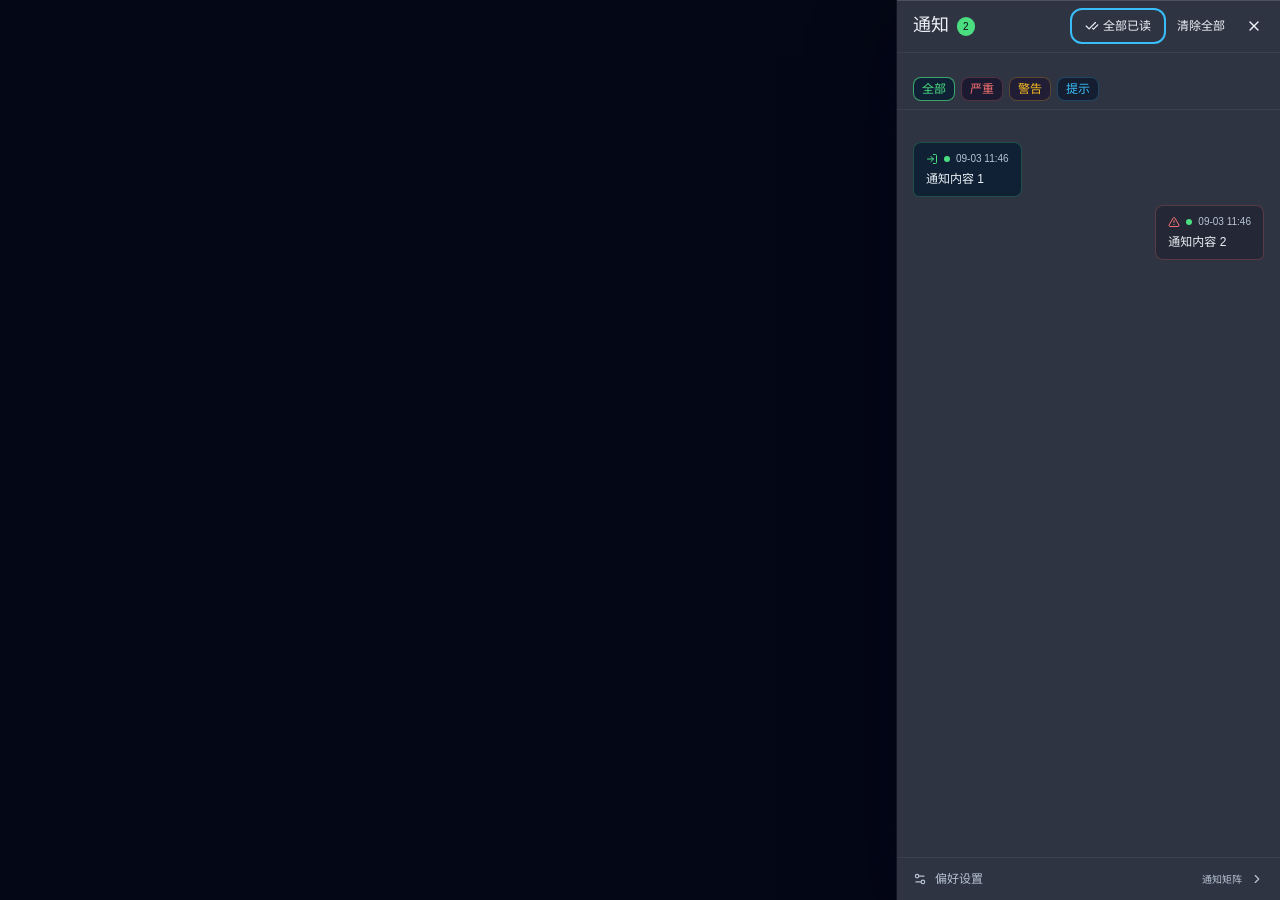
Scenario: NotificationDrawer 清除全部确认 › 确认后清空 store 并关闭弹窗
Step 1. Click the button "清除全部" → (1201,26), box [1166,12,1236,40]
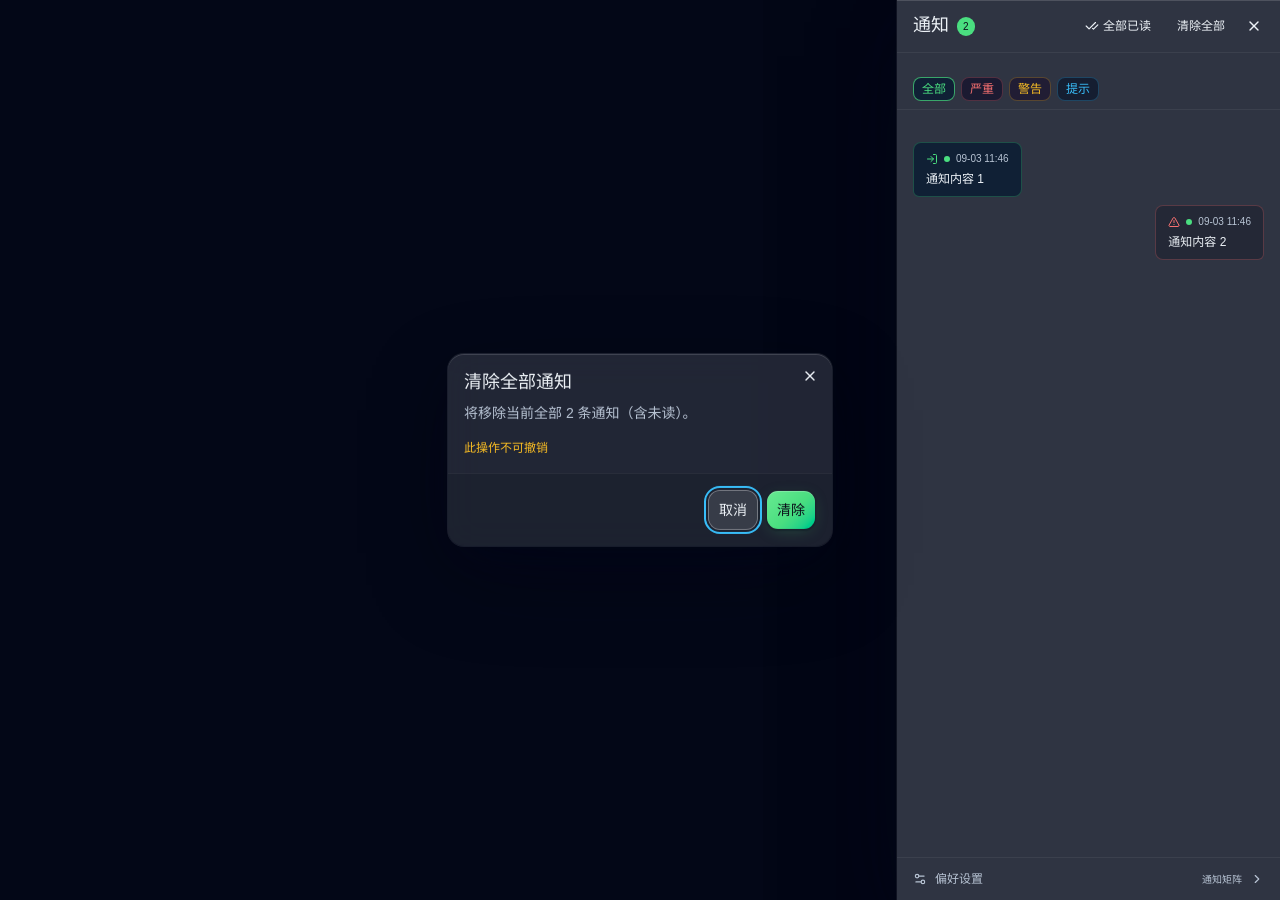
Step 2. Click the button "清除" → (791,510), box [766,490,816,530]
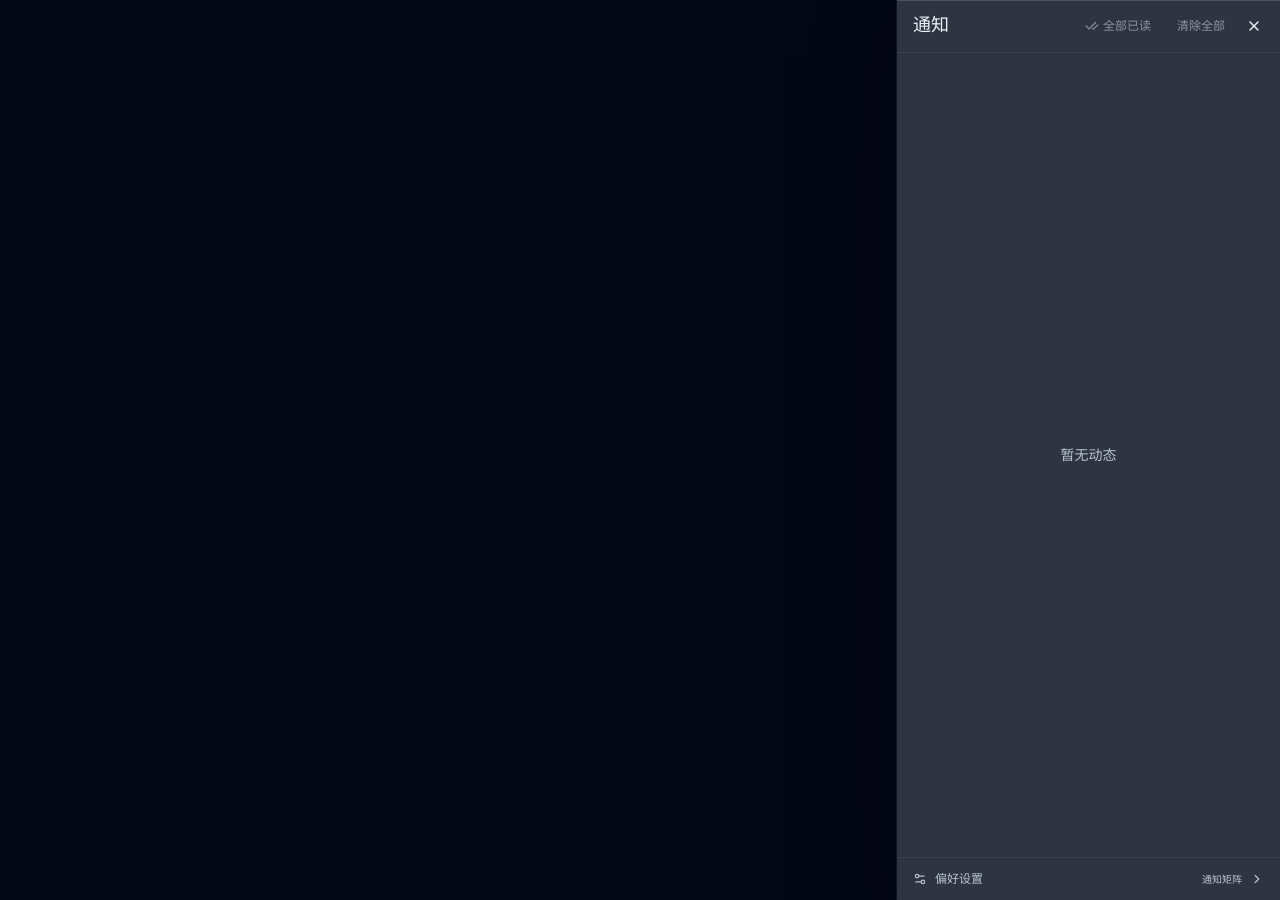
expect the heading "清除全部通知" is gone: met
